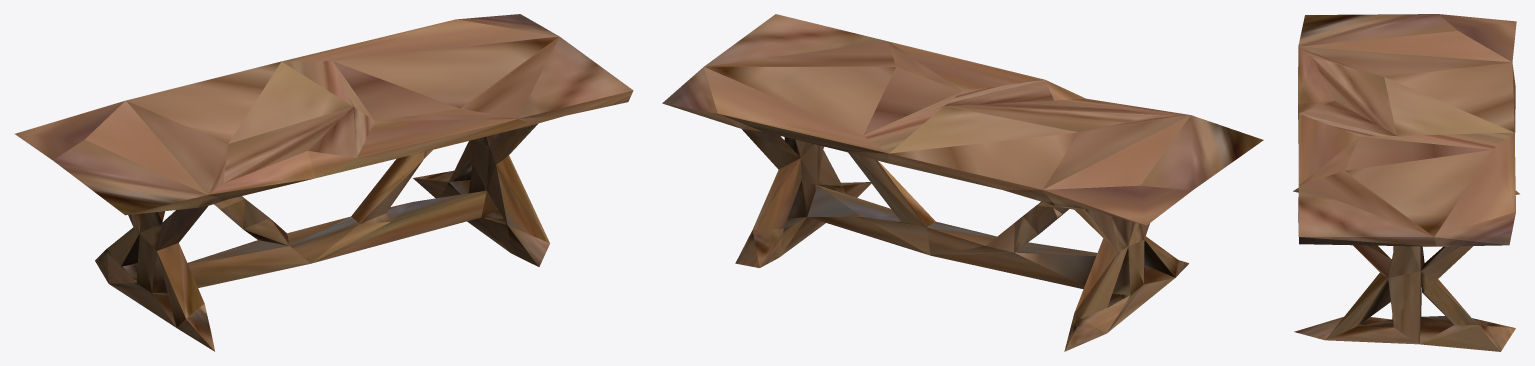
The model's file is scorers_table_low.glb.
3 renders of one model, left to right at view 1: azimuth 30°, elevation 25°; view 2: azimuth 150°, elevation 25°; view 3: azimuth 270°, elevation 25°, orthographic. The views are drawn at different scales.
Visible parts, largest first — view 1: m; view 2: m; view 3: m.
Boxes of the visible parts, x1,y1,x2,y2 form: m: (15,14,633,351); m: (662,14,1263,351); m: (1293,14,1519,351).
Size of the model in its own units: 2.53 by 0.76 by 1.08.
1 material, 1 textured.
